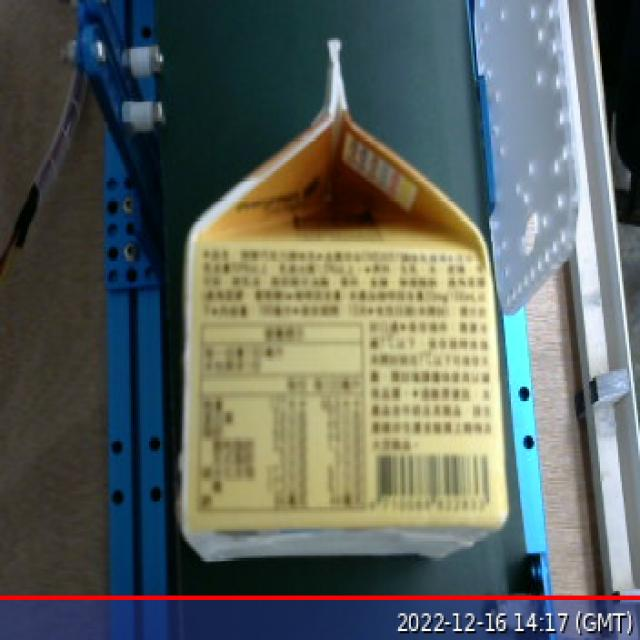non_white_jug: (164, 20, 521, 575)
